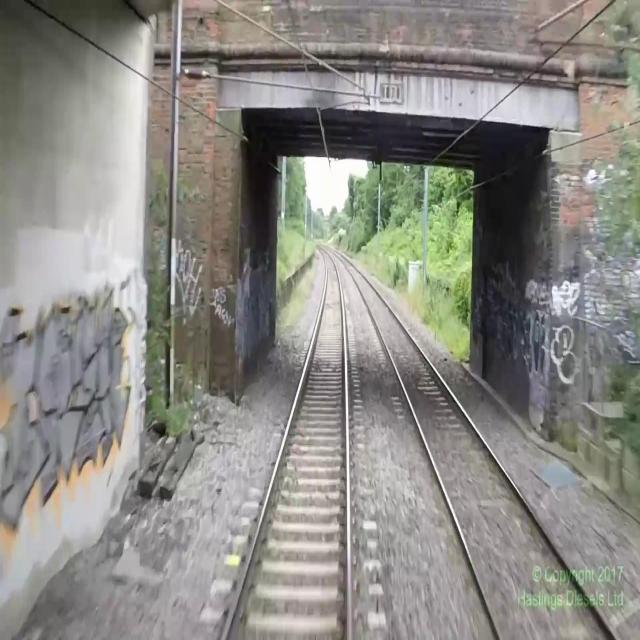rail-track: (335, 252, 614, 639), (226, 249, 346, 639)
